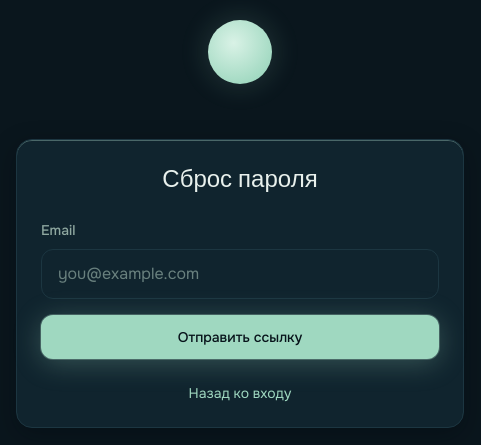
Scenario: ForgotPasswordPage (#150) › успешный запрос → экран «Проверьте email» с role=status
The image size is (481, 445).
In the field labelled "Email": (240, 274) x1=41 y1=249 x2=439 y2=299, type "a@b.com"
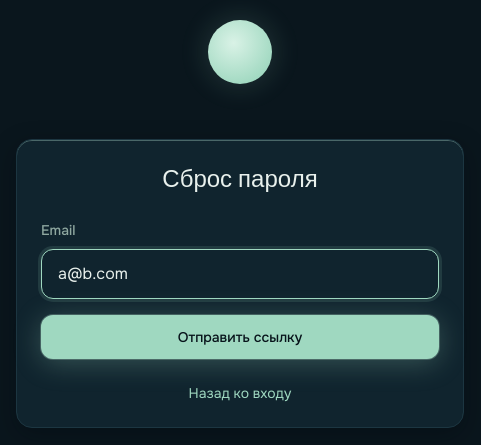
Click the button "Отправить ссылку": (240, 337) x1=41 y1=315 x2=439 y2=359
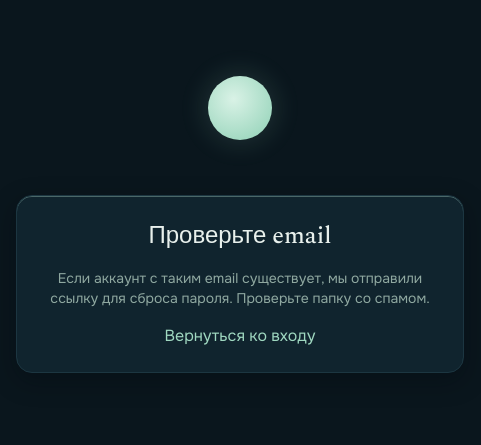
Now the message shows "Проверьте email", box x1=148 y1=218 x2=332 y2=254
